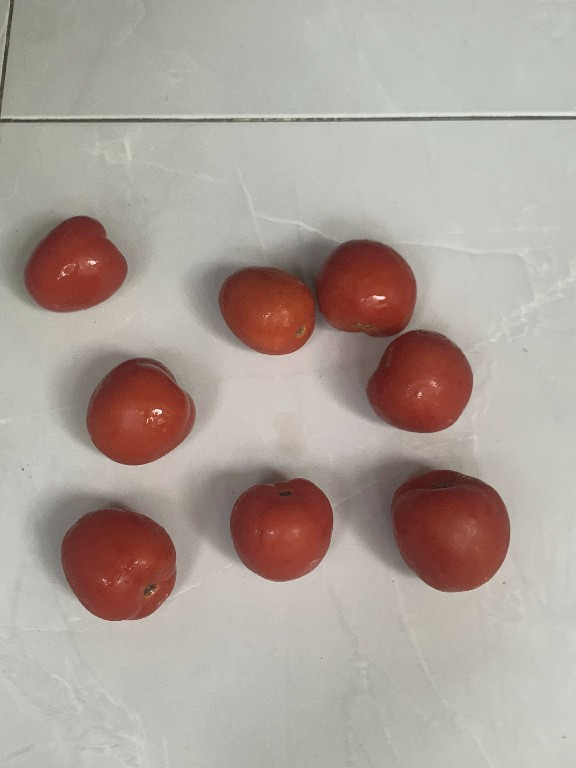OK: (376, 461, 518, 604), (50, 498, 183, 628), (79, 346, 200, 473), (225, 466, 341, 589), (364, 317, 479, 438), (20, 202, 134, 323), (310, 225, 420, 343), (205, 252, 317, 363)
